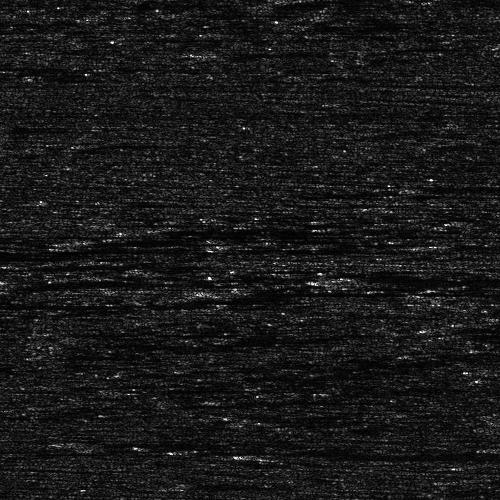rock: (303, 272, 408, 281), (222, 453, 315, 460), (0, 298, 44, 307), (188, 395, 241, 402), (210, 285, 241, 296), (210, 47, 251, 54), (193, 472, 204, 497), (389, 186, 430, 191), (486, 362, 500, 375), (74, 435, 85, 450), (167, 446, 198, 451)
shadow: (226, 285, 500, 296), (80, 435, 272, 450), (0, 298, 259, 307), (199, 472, 265, 497), (269, 453, 500, 460), (183, 446, 447, 451), (356, 272, 500, 281), (215, 395, 347, 402), (231, 47, 362, 54), (410, 186, 500, 191), (0, 253, 52, 260), (443, 328, 500, 331)
